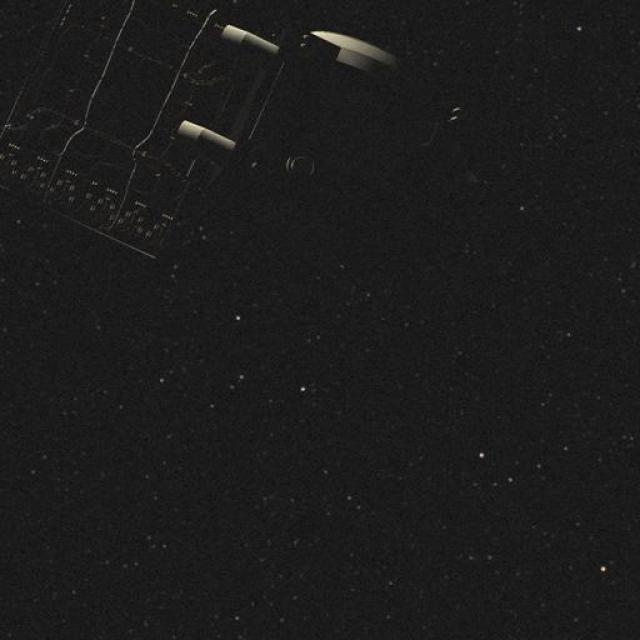proba_3_csc: (17, 0, 419, 301)
